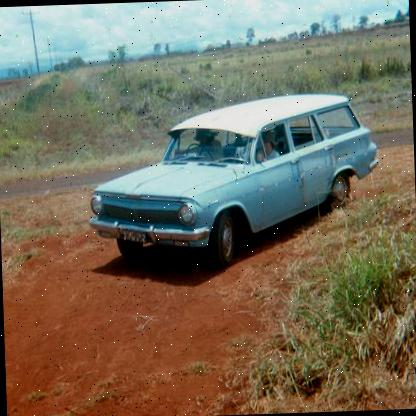car: (73, 80, 390, 272)
